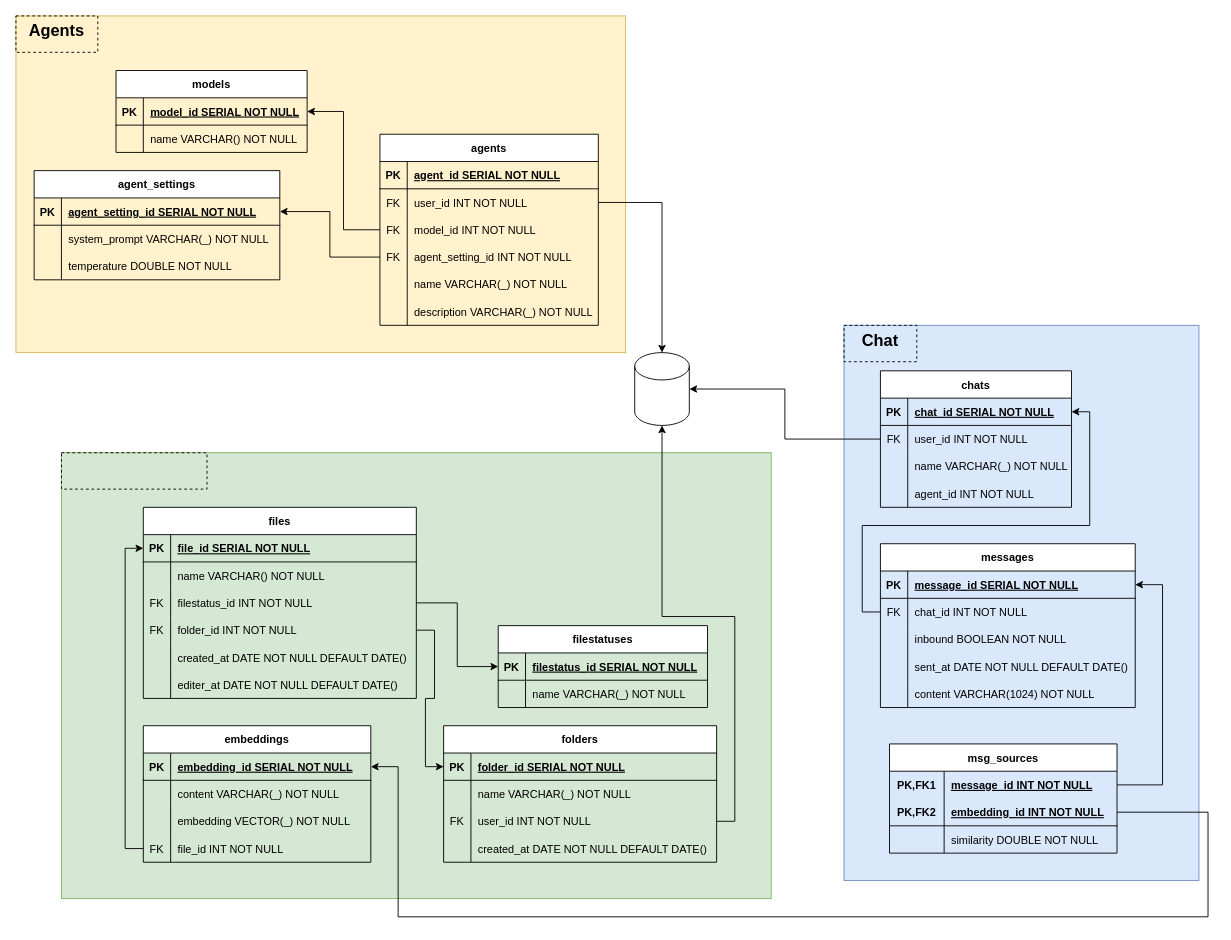
Some shapes in this 1231 by 940 pixel diagram are drawn without their labels. The shapes that lost their labels are listed below. From the top down, each one's centre as x and y in pixels, then its label:
At pixel 661 388: "Clerk".
At pixel 134 470: "KnowledgeBase".
